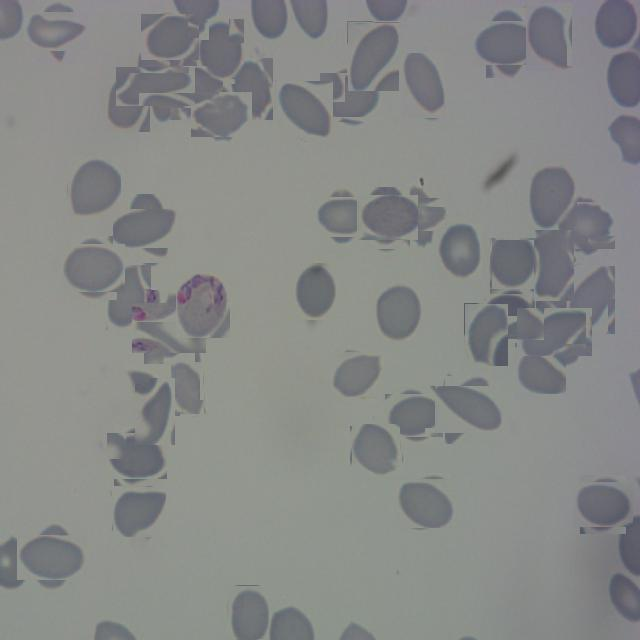leukocyte: (138, 296, 200, 358), (524, 301, 586, 363), (347, 22, 399, 92), (126, 57, 186, 116), (566, 265, 615, 334), (480, 14, 538, 72), (274, 81, 332, 139), (440, 381, 498, 439), (23, 528, 81, 586), (528, 163, 577, 231), (525, 2, 572, 71), (67, 157, 121, 217), (323, 69, 379, 125), (556, 198, 612, 254), (65, 240, 121, 296), (400, 52, 446, 118), (373, 281, 422, 342), (399, 476, 454, 530), (106, 266, 151, 332), (196, 18, 244, 79), (121, 202, 175, 256), (194, 88, 248, 142), (165, 60, 218, 114), (534, 230, 574, 301), (144, 11, 197, 64), (360, 192, 414, 244), (464, 303, 508, 366), (111, 430, 164, 482), (30, 5, 82, 58), (112, 486, 166, 537), (106, 70, 150, 132), (578, 478, 630, 530), (512, 345, 564, 397), (135, 378, 175, 445), (437, 220, 482, 279), (294, 264, 338, 322), (388, 390, 439, 440), (232, 58, 273, 120), (318, 192, 368, 242), (332, 350, 382, 400), (351, 426, 401, 476), (490, 237, 536, 289), (227, 585, 269, 639), (488, 290, 534, 336), (394, 192, 440, 238), (170, 361, 204, 416)
schizont: (176, 272, 230, 338)
